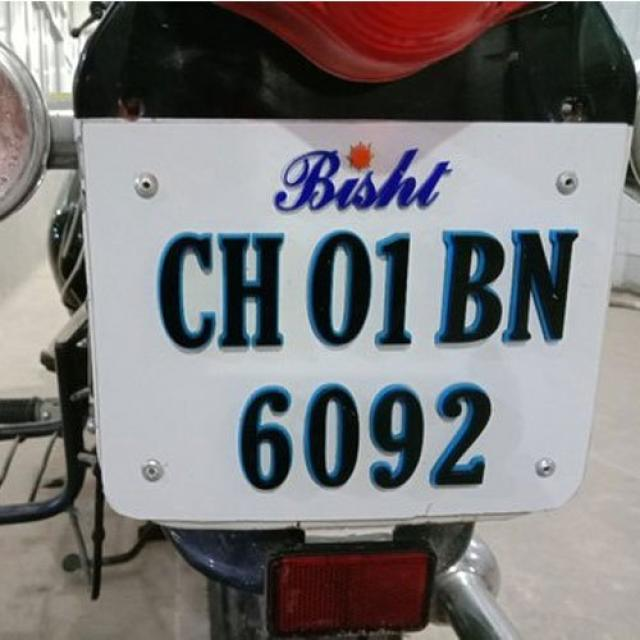number plate: (76, 112, 634, 528)
